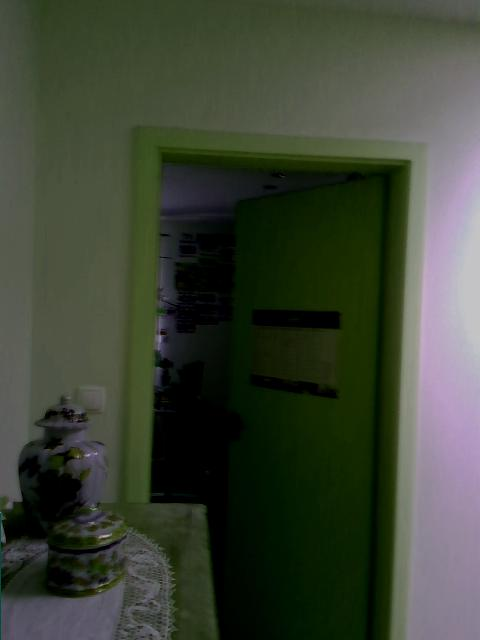semi_door: (132, 122, 430, 639)
